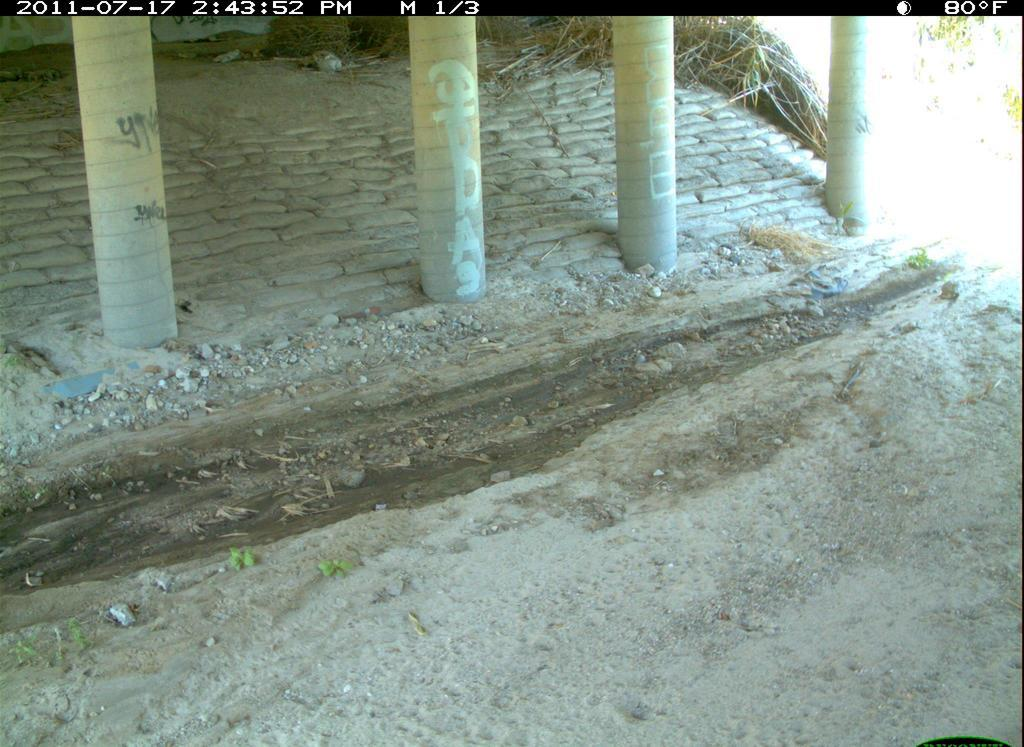bobcat: (7, 3, 1024, 747)
